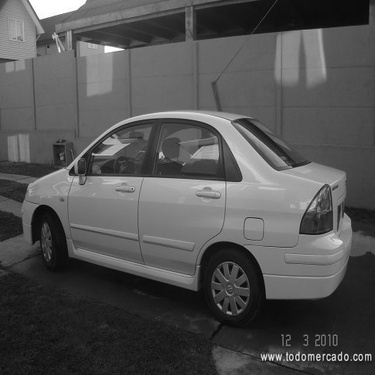car: (18, 100, 355, 329)
